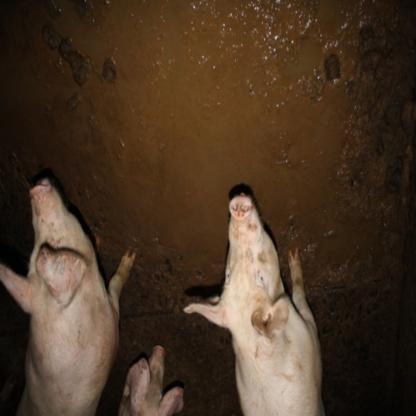boar: (0, 177, 138, 416), (183, 193, 326, 416), (119, 345, 184, 416)
